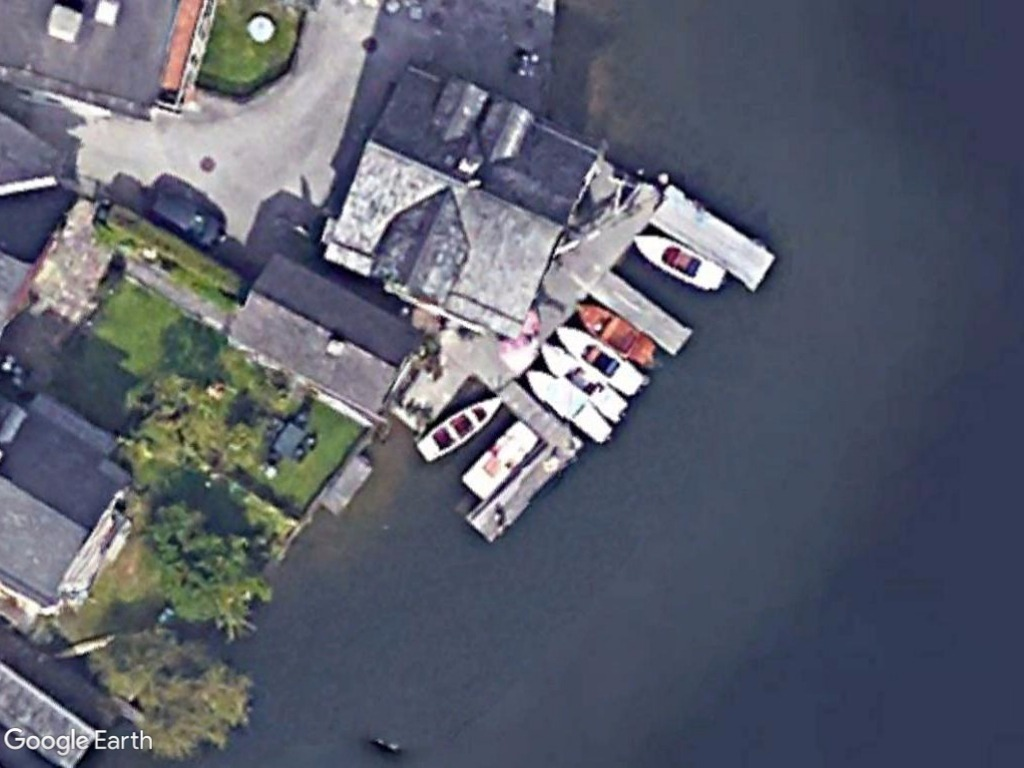boat: (534, 337, 633, 426), (552, 319, 654, 402), (517, 366, 617, 449), (569, 294, 664, 376), (409, 389, 508, 465), (629, 229, 733, 296)
